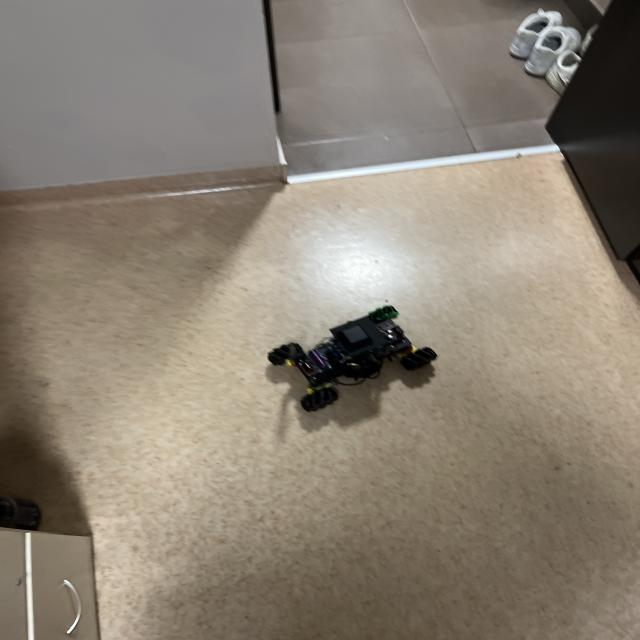robot: (268, 306, 437, 412)
